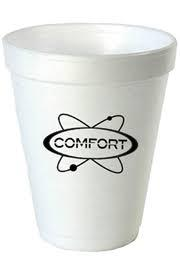Plastic cup: (0, 10, 180, 257)
